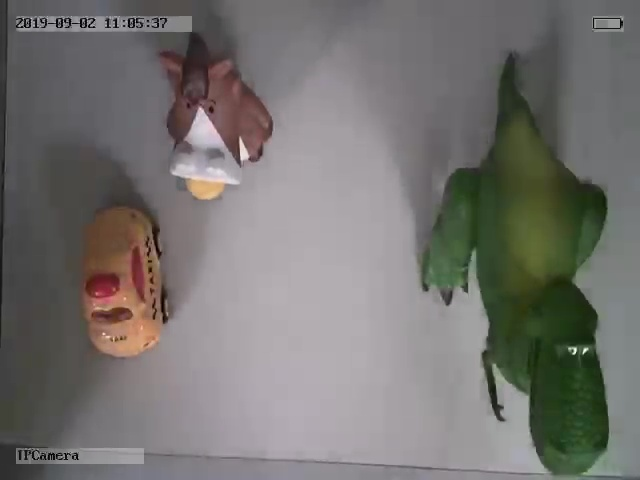car: (77, 204, 172, 358)
horse: (161, 36, 272, 203)
rex: (420, 64, 611, 480)
